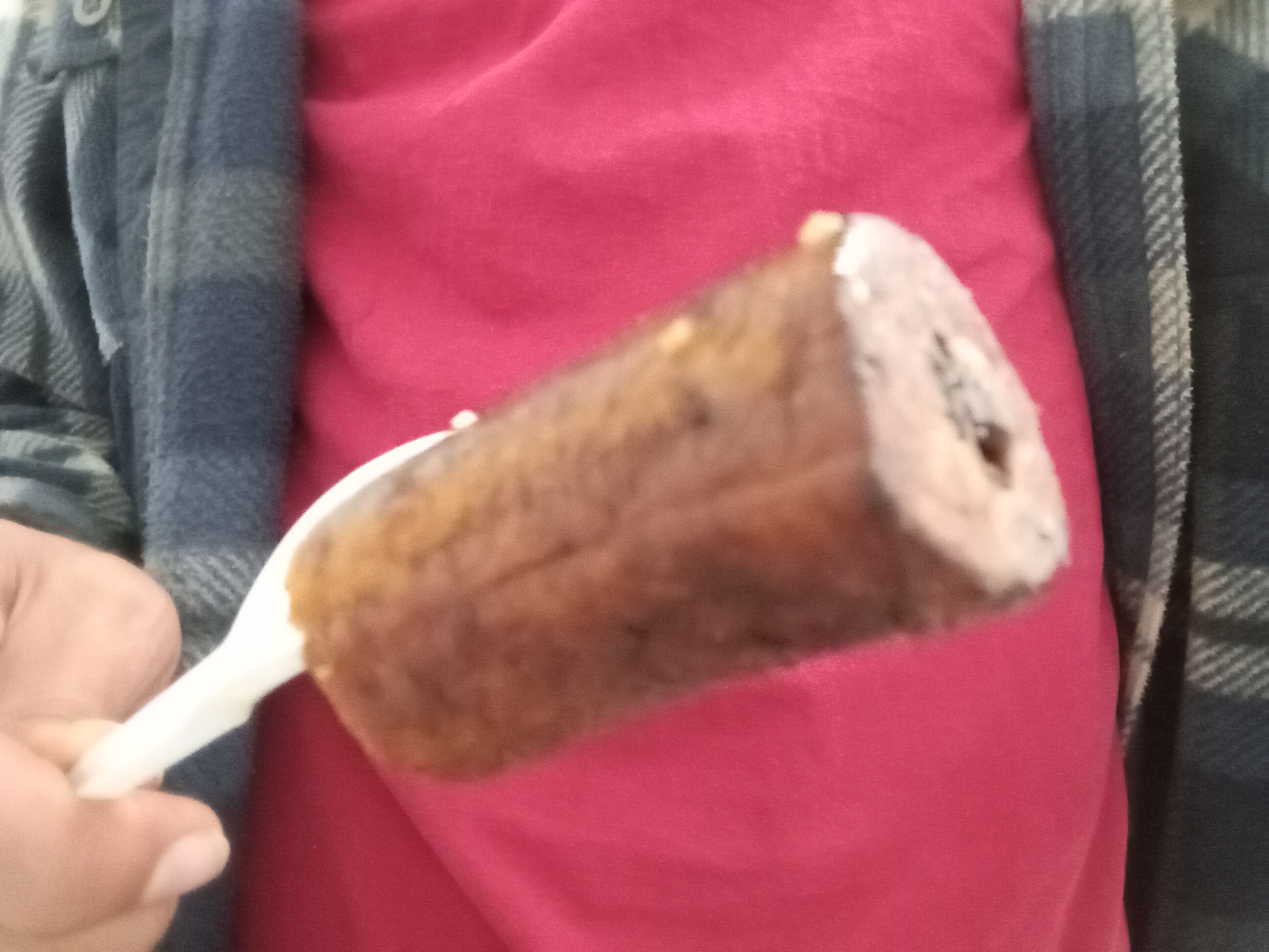Organico: (285, 214, 1073, 779)
